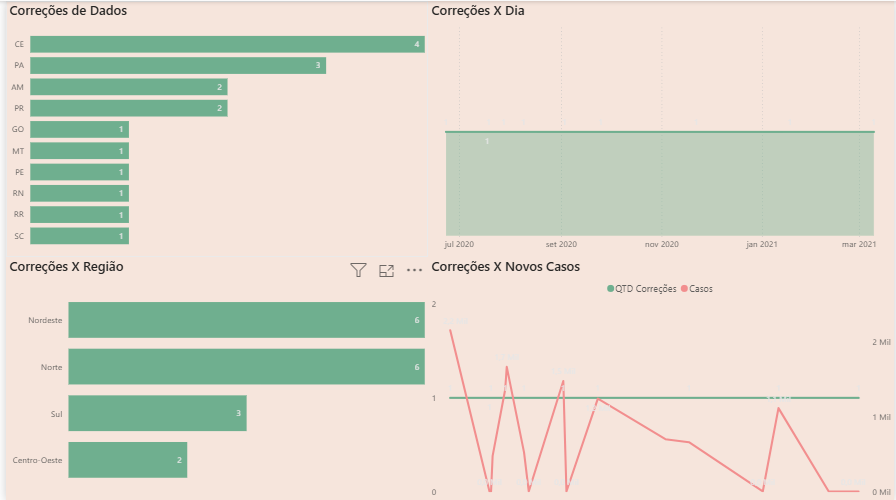

This screenshot's page, from the dashboard's own definition file:
{"tool":"powerbi","page":{"name":"Qualidade dos Dados","canvas":[1280,720],"ordinal":3},"visuals":[{"type":"barChart","title":"Correções de Dados","fields":{"Category":["covid19 vw_qualidade_dados.state"],"Y":["Qualidade dos Dados.Qtd Correções de Dados"]},"box":[0,0,608,368],"z":1000},{"type":"areaChart","title":"Correções X Dia","fields":{"Y":["Qualidade dos Dados.Qtd Correções de Dados"],"Category":["covid19 vw_qualidade_dados.date"]},"box":[608,0,672,368],"z":2000},{"type":"barChart","title":"Correções X Região","fields":{"Category":["covid19 vw_qualidade_dados.region"],"Y":["Qualidade dos Dados.Qtd Correções de Dados"]},"box":[0,368,608,352],"z":3000},{"type":"lineChart","title":"Correções X Novos Casos","fields":{"Category":["Calendario.Date"],"Y":["Qualidade dos Dados.Qtd Correções de Dados"],"Y2":["Sum(covid19 vw_qualidade_dados.novos_casos)"]},"box":[608,368,672,352],"z":4000}]}

Visuals, with their boxes in screenshot pixels (x1, y1, x2, y2), scaled from the page's 1280x720 canvas onto the 896x500 screenshot:
"Correções de Dados" barChart: BBox(0, 0, 426, 256)
"Correções X Dia" areaChart: BBox(426, 0, 895, 256)
"Correções X Região" barChart: BBox(0, 256, 426, 499)
"Correções X Novos Casos" lineChart: BBox(426, 256, 895, 499)
